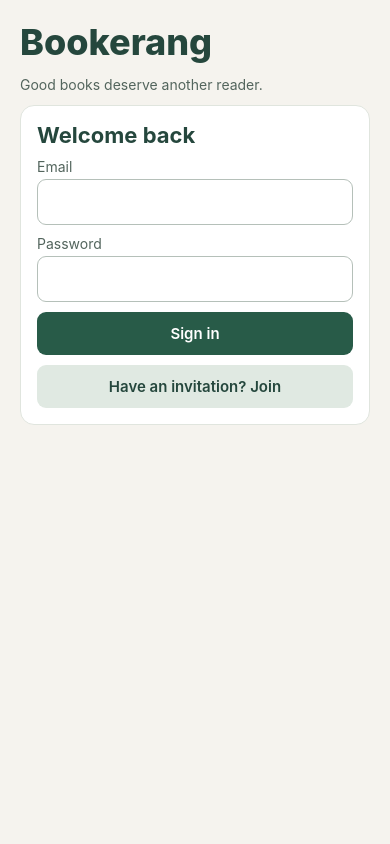
denied location prevents registration request
Click the button "Have an invitation? Join".
click(195, 386)  # box [37,365,353,408]
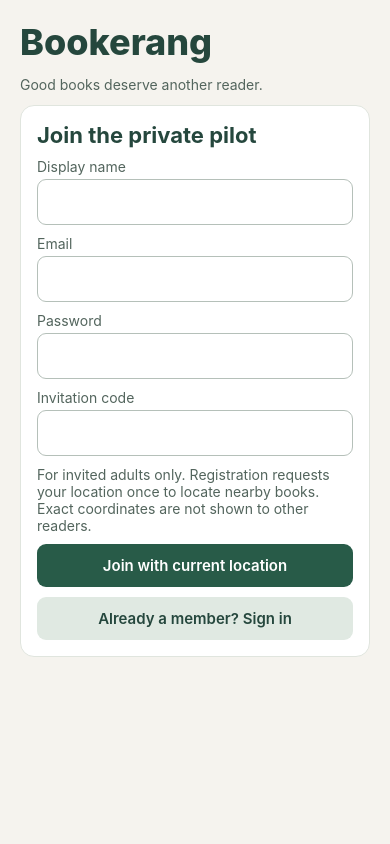
Click the button "Join with current location".
click(195, 566)  # box [37,544,353,587]
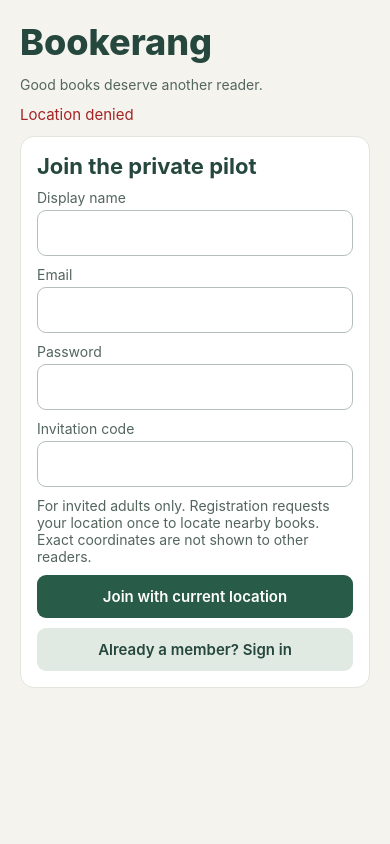
expect the text "Location denied" is shown: met, box [20,105,134,124]
